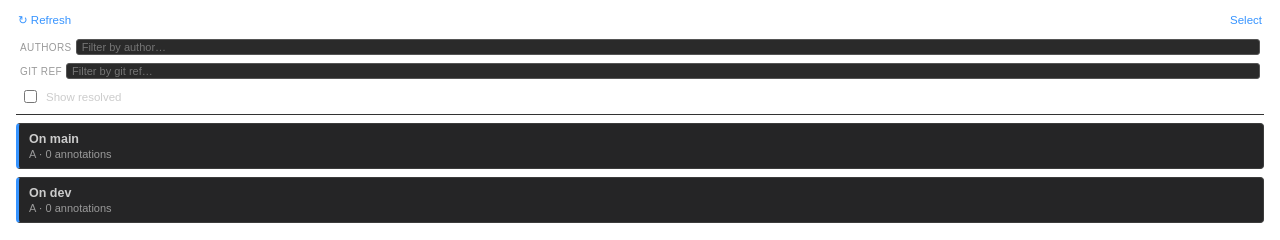
Test: App.svelte › filters by git ref selected from the dropdown
The image size is (1280, 240).
Step 1. Click the dropdown with test id "picker-input-Git ref" → (663, 71), box [66,63,1260,79]
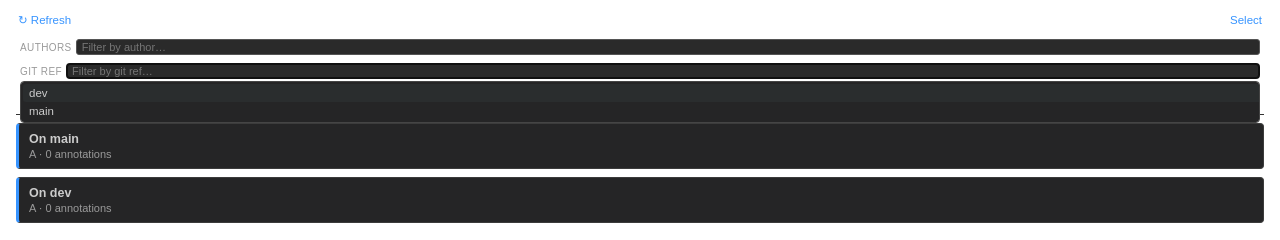
Step 2. Click the option "main" → (41, 111), box [29,105,54,117]
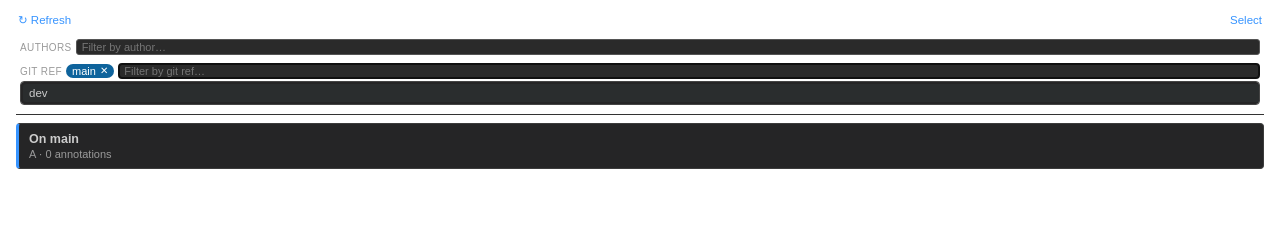
Expected: the button with test id "group-card" shows "On main", [16,123,1264,169]
Now the number of buttons with test id "group-card" is 1, box [16,123,1264,169]
